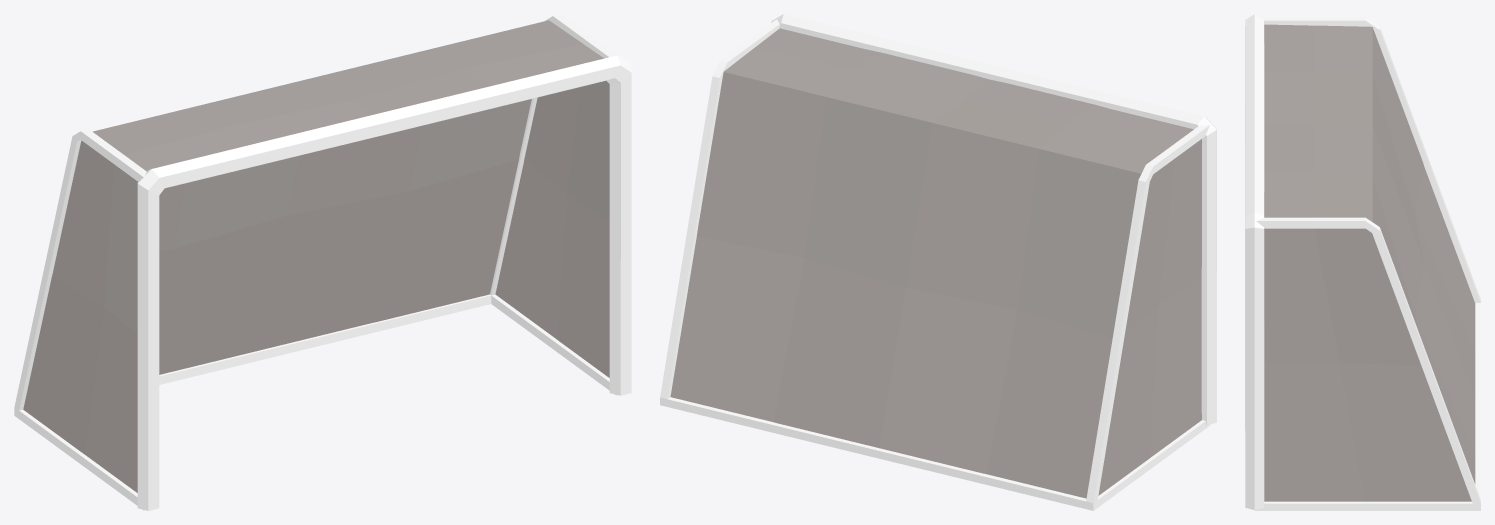
Rendered from soccer-gate.glb.
3 views of the same model, side by side, from view 1: azimuth 30°, elevation 25°; view 2: azimuth 150°, elevation 25°; view 3: azimuth 270°, elevation 25° (orthographic). The views are drawn at different scales.
Visible parts, largest first — view 1: soccer-gate; view 2: soccer-gate; view 3: soccer-gate.
Boxes of the visible parts, x1,y1,x2,y2 form: soccer-gate: (14,14,631,510); soccer-gate: (660,14,1216,510); soccer-gate: (1245,14,1480,510).
Size of the model in its own units: 3.34 by 2.2 by 1.59.
Materials: 1 (1 with a texture image).
